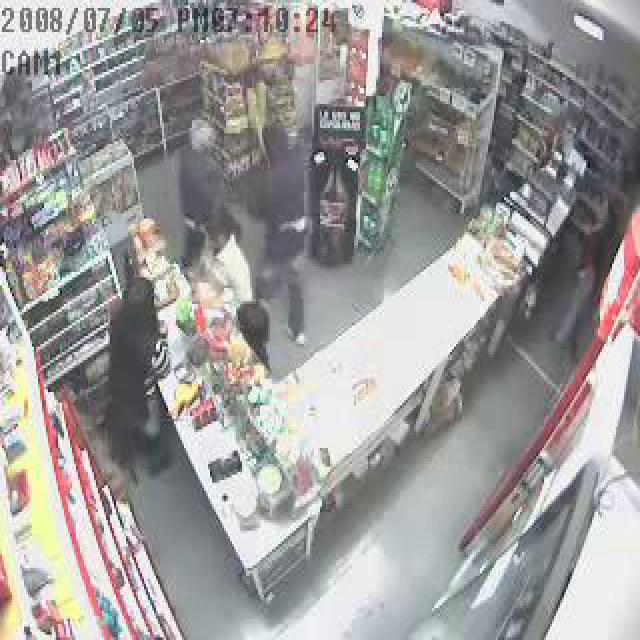robbery: (153, 55, 380, 520)
